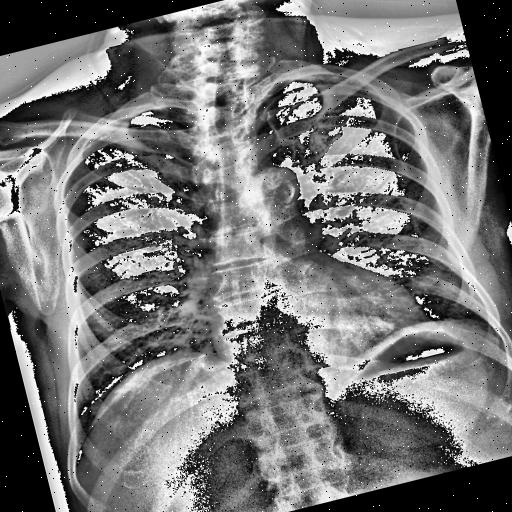0- Aortic enlargement: (239, 159, 309, 229), (244, 161, 308, 223), (242, 160, 304, 212)
11- Pleural thickening: (80, 118, 131, 142)
